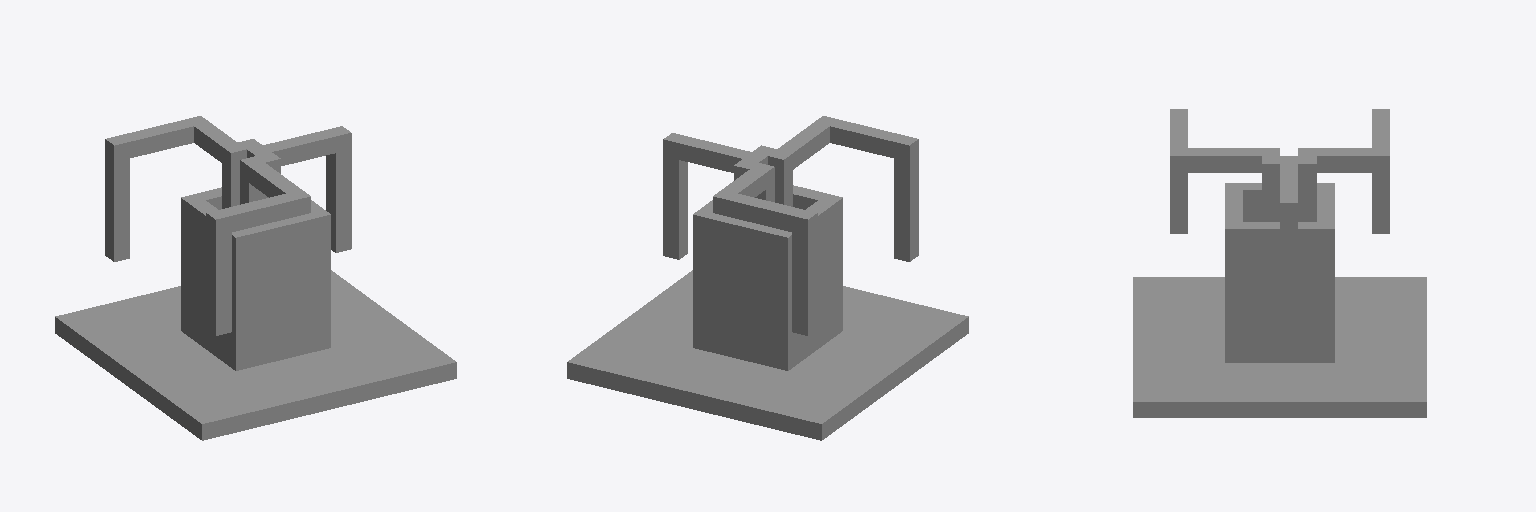
Rendered from potionmixer.obj.
3 renders of one model, left to right at view 1: azimuth 30°, elevation 25°; view 2: azimuth 150°, elevation 25°; view 3: azimuth 270°, elevation 25°, orthographic.
Parts seen in each view (by area): view 1: Cube; view 2: Cube; view 3: Cube.
Boxes of the visible parts, <box> form: Cube: <box>55,116,456,440</box>; Cube: <box>567,116,968,440</box>; Cube: <box>1133,109,1426,417</box>.
Bounding box in the file's own units: 1 × 0.75 × 1.